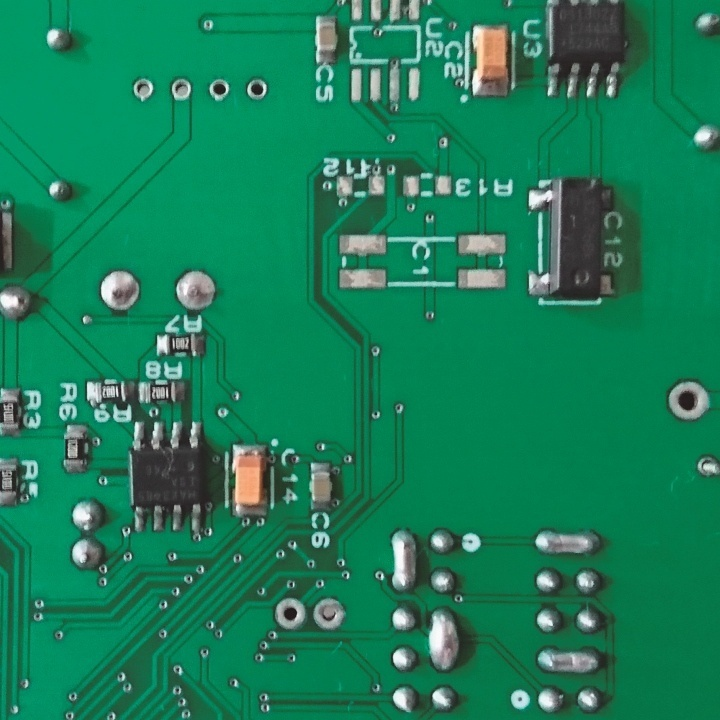F: (666, 378, 712, 425), (173, 266, 219, 311), (99, 266, 142, 314), (306, 595, 347, 635), (271, 595, 307, 629), (691, 445, 720, 480), (170, 74, 195, 106), (244, 75, 270, 105), (204, 77, 235, 102), (131, 76, 157, 104)
P: (533, 644, 611, 679), (532, 524, 602, 561), (427, 604, 459, 674), (390, 525, 417, 595)
